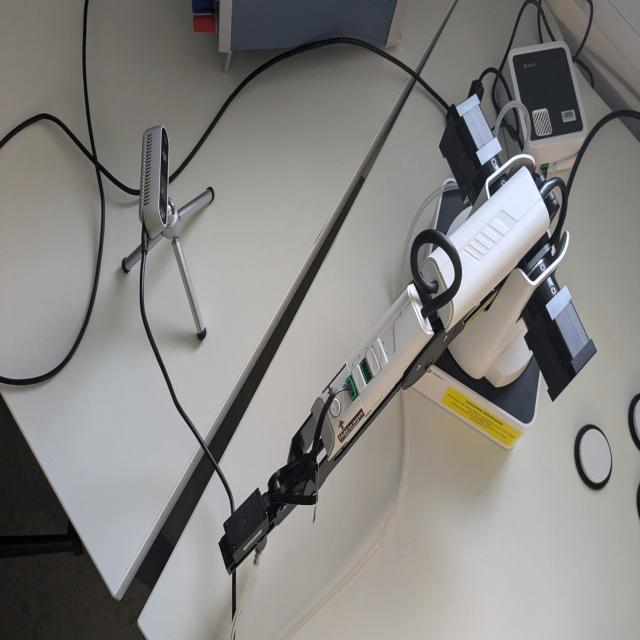Robot-end-effector-HF8z: (216, 480, 273, 584)
